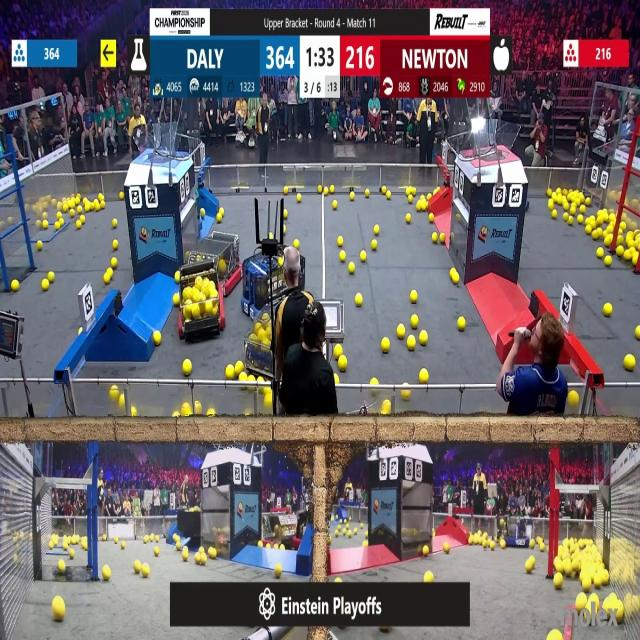ball_ground: (54, 597, 66, 621), (576, 594, 586, 611), (625, 355, 636, 370), (568, 391, 578, 407), (555, 573, 563, 589), (617, 606, 625, 622), (182, 360, 191, 374), (225, 364, 234, 378), (339, 356, 348, 370), (382, 403, 391, 417), (583, 579, 592, 593), (563, 564, 572, 578), (420, 332, 428, 347), (185, 405, 194, 418), (382, 339, 390, 353), (275, 563, 283, 577), (420, 370, 428, 384), (526, 558, 534, 572), (266, 393, 274, 407), (424, 571, 434, 582), (550, 631, 562, 640), (458, 317, 466, 330), (141, 564, 149, 577), (409, 338, 417, 351), (110, 387, 118, 400), (594, 574, 602, 587), (412, 315, 419, 329), (397, 324, 404, 338), (103, 566, 110, 580), (604, 304, 611, 318), (335, 345, 343, 357), (236, 361, 243, 374), (450, 273, 457, 286), (632, 253, 639, 266), (193, 401, 200, 414), (209, 549, 217, 560), (624, 250, 632, 261), (11, 280, 18, 292), (60, 560, 66, 574), (401, 390, 409, 400), (596, 248, 604, 258), (591, 593, 599, 603), (42, 280, 49, 291), (105, 273, 112, 284), (134, 561, 141, 572), (154, 334, 160, 346), (356, 293, 362, 305), (412, 290, 418, 302), (182, 550, 188, 562), (554, 559, 560, 571), (604, 255, 611, 265), (618, 246, 625, 256), (604, 238, 611, 248), (569, 205, 576, 215), (194, 554, 200, 565), (118, 395, 124, 406), (207, 410, 215, 418), (618, 237, 625, 246), (47, 273, 53, 283), (445, 542, 451, 552), (341, 251, 347, 261), (338, 237, 344, 247), (360, 251, 366, 261), (111, 257, 117, 267), (431, 234, 437, 244), (422, 545, 428, 555), (441, 234, 447, 244), (349, 264, 355, 274), (153, 545, 159, 555), (417, 202, 423, 212), (546, 200, 552, 210), (593, 231, 599, 241), (564, 202, 570, 212), (174, 294, 180, 304), (202, 556, 208, 566), (240, 374, 247, 382), (371, 240, 376, 251), (132, 408, 138, 417), (577, 215, 583, 224), (586, 224, 592, 233), (374, 224, 380, 233), (293, 240, 299, 249), (42, 219, 48, 228), (69, 552, 75, 561), (75, 198, 81, 207), (407, 214, 412, 224), (112, 218, 117, 228), (175, 273, 180, 283), (336, 576, 343, 583), (316, 185, 323, 192), (636, 326, 640, 338), (370, 378, 376, 386), (428, 214, 434, 222), (216, 214, 222, 222), (36, 242, 42, 250), (269, 234, 275, 242), (529, 540, 535, 548), (563, 213, 569, 221), (500, 540, 506, 548), (350, 192, 356, 200), (467, 536, 473, 544), (490, 541, 496, 549), (621, 222, 627, 230), (248, 374, 254, 382), (112, 241, 117, 250), (331, 201, 336, 210), (100, 201, 105, 210), (336, 375, 341, 384), (579, 206, 584, 215), (56, 220, 61, 229), (323, 187, 328, 196), (545, 188, 551, 195), (77, 207, 83, 214), (283, 210, 288, 218), (76, 220, 81, 228), (553, 210, 558, 218), (70, 209, 75, 217), (99, 192, 104, 200), (364, 189, 369, 197), (82, 541, 87, 549), (363, 539, 368, 547), (568, 215, 572, 224), (275, 542, 281, 548), (218, 208, 223, 215), (284, 186, 289, 193), (409, 195, 414, 202), (348, 530, 353, 537), (200, 545, 205, 552), (329, 185, 334, 192), (60, 218, 65, 225), (176, 542, 181, 549), (119, 190, 123, 198), (540, 542, 544, 550), (296, 193, 300, 201), (387, 190, 391, 198), (282, 225, 286, 233), (201, 209, 205, 217), (155, 534, 159, 542), (150, 538, 154, 546), (64, 541, 68, 549), (120, 541, 124, 548), (258, 540, 262, 547), (80, 215, 84, 222), (354, 528, 358, 535), (58, 212, 62, 219), (432, 529, 436, 536), (280, 543, 284, 549), (144, 536, 148, 542), (114, 536, 118, 542), (268, 542, 272, 548), (101, 538, 105, 544), (364, 531, 368, 537), (360, 523, 363, 529)
goal: (464, 121, 522, 160), (128, 127, 189, 161)
robot_blue: (244, 244, 292, 322), (499, 517, 531, 548)
robot_red: (176, 271, 224, 342), (208, 236, 243, 298), (242, 322, 273, 379), (262, 511, 303, 548)
